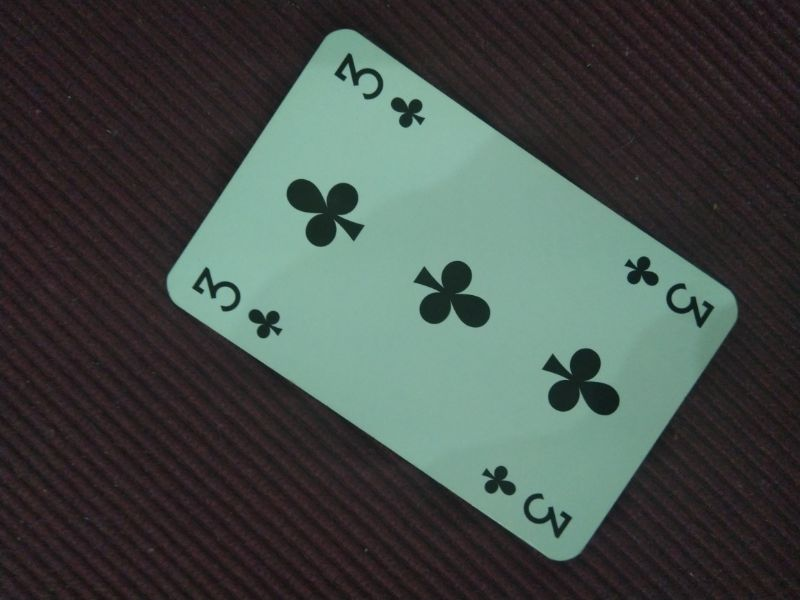3c: (331, 51, 429, 131), (478, 463, 575, 543), (622, 251, 717, 330), (189, 265, 286, 341)
